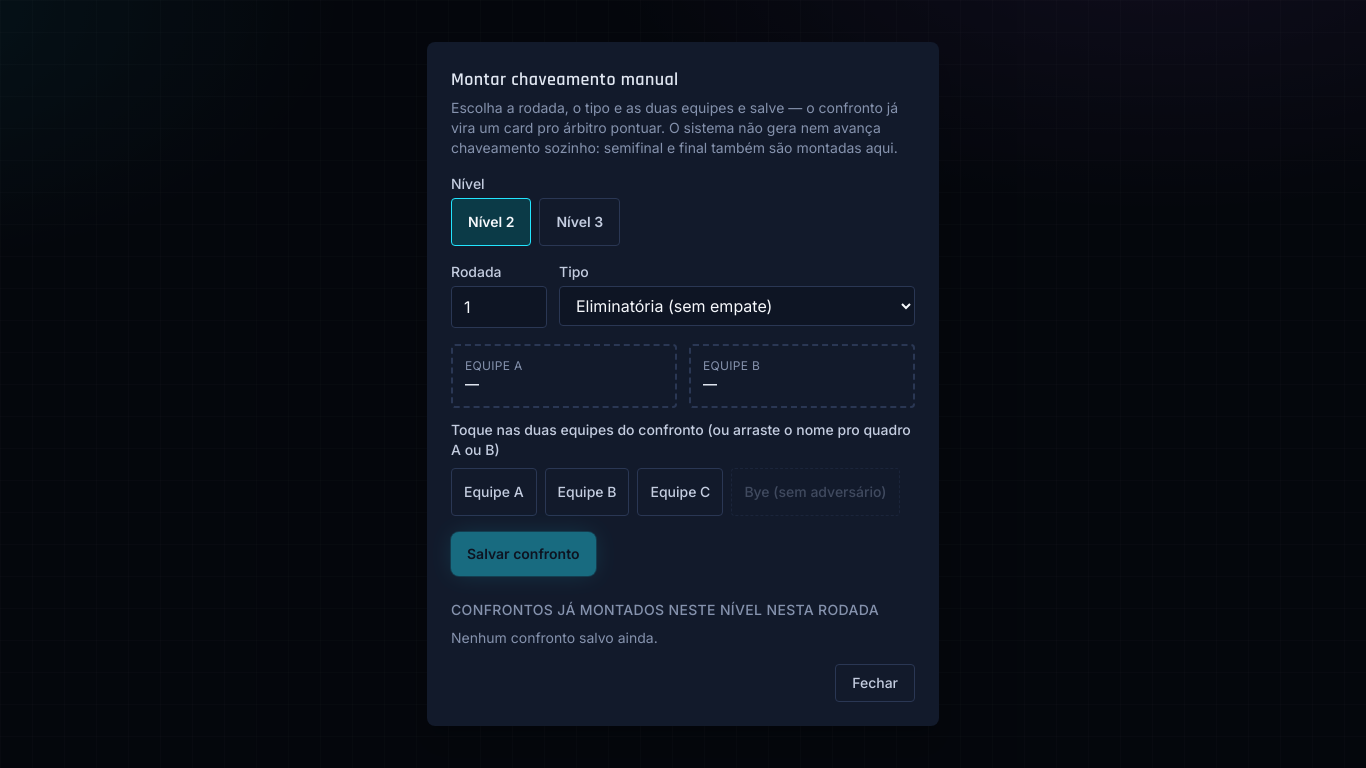
it: ChaveamentoManualBuilder › primeiro toque vira a equipe A, segundo vira a equipe B
The width and height of the screenshot is (1366, 768).
Click the button "Equipe C": (680, 492) x1=638 y1=468 x2=723 y2=516
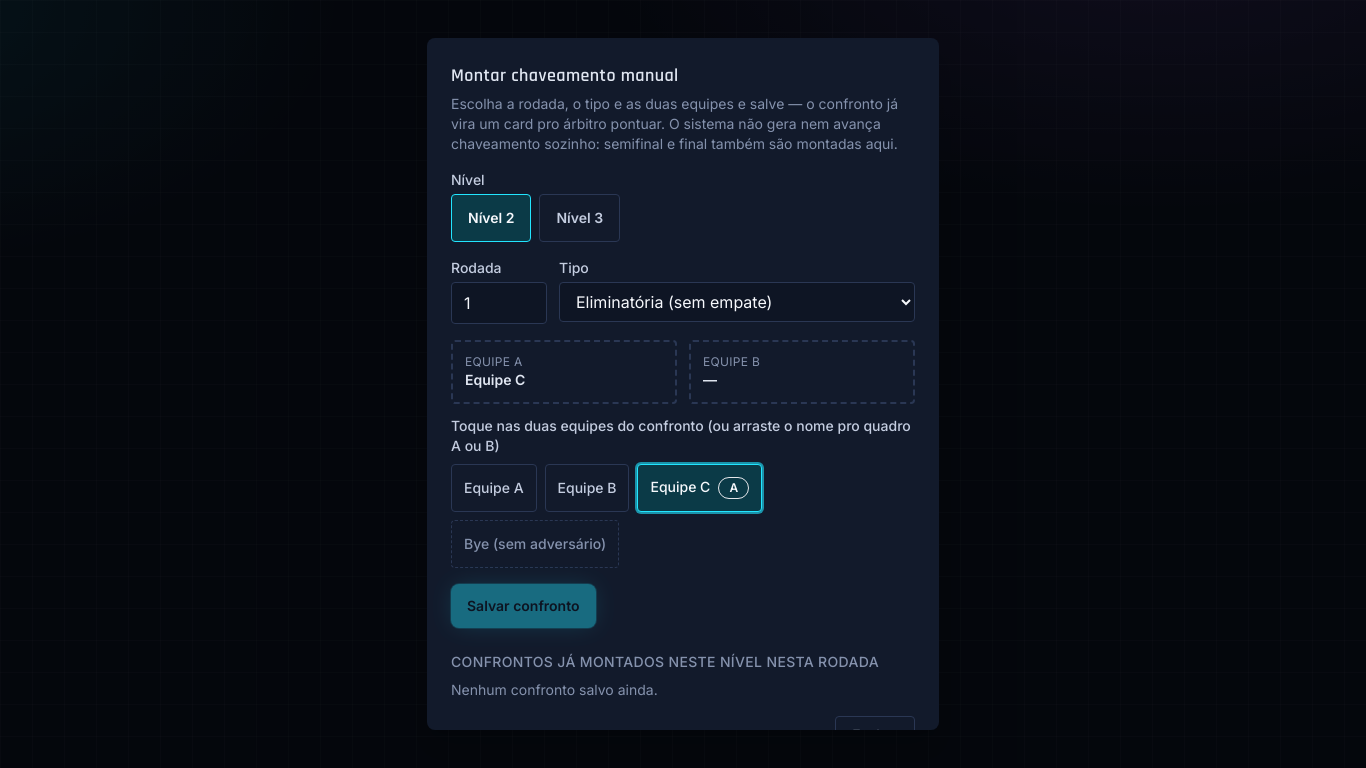
Click the button "Equipe A": (494, 488) x1=451 y1=464 x2=537 y2=512
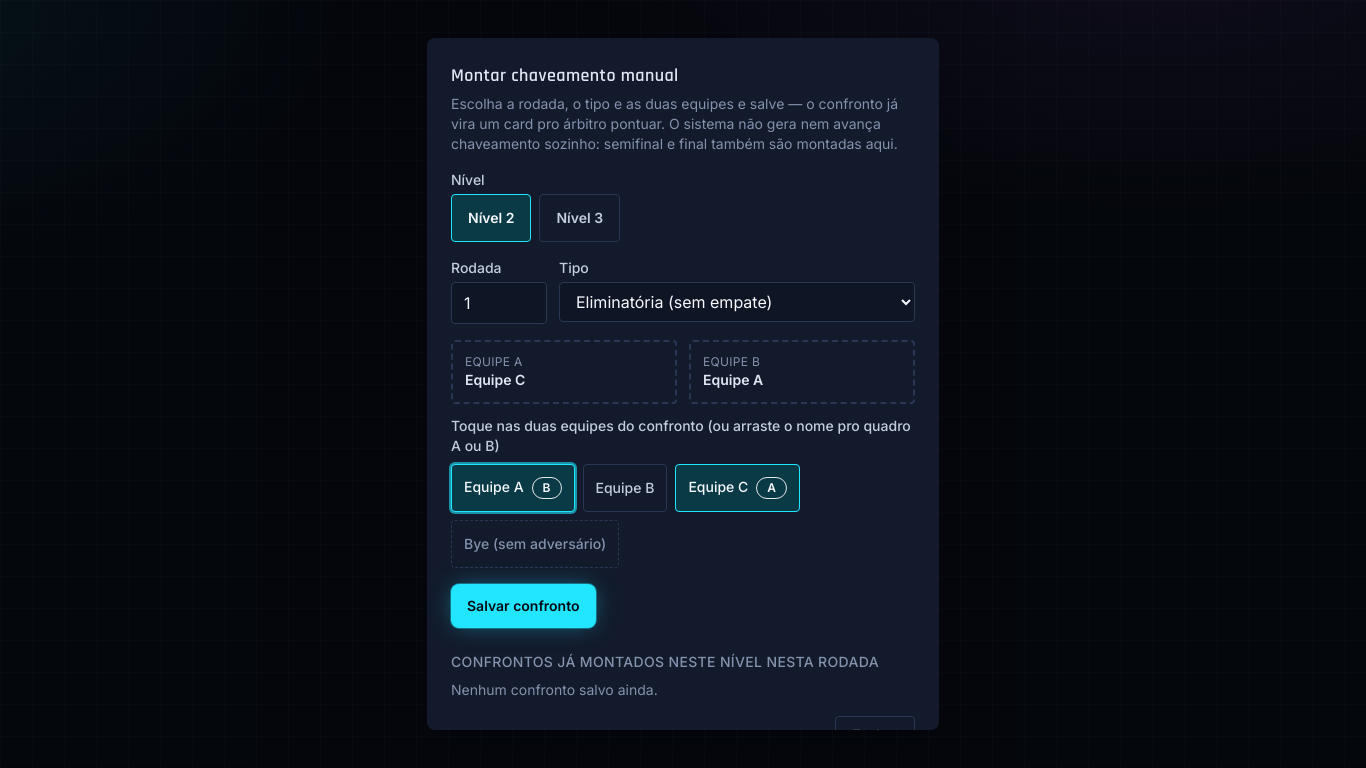
Check: the text with test id "lado-a" reads "Equipe C", box x1=465 y1=371 x2=525 y2=388
Check: the text with test id "lado-b" reads "Equipe A", box x1=703 y1=371 x2=763 y2=388
